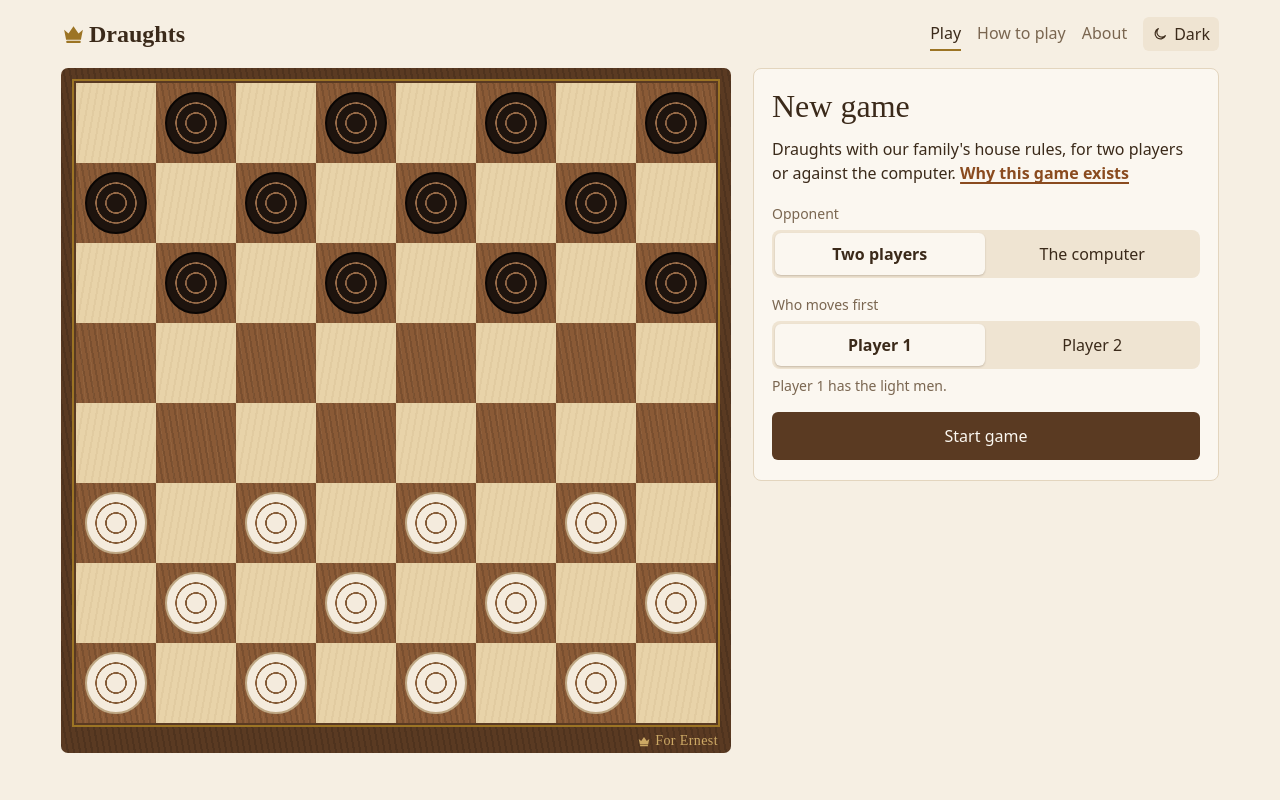
Show tips › shows tips and targets together, looking different (spec section 6.6, item 12)
Click the button "Start game" at (986, 436), box [772,412,1200,460]
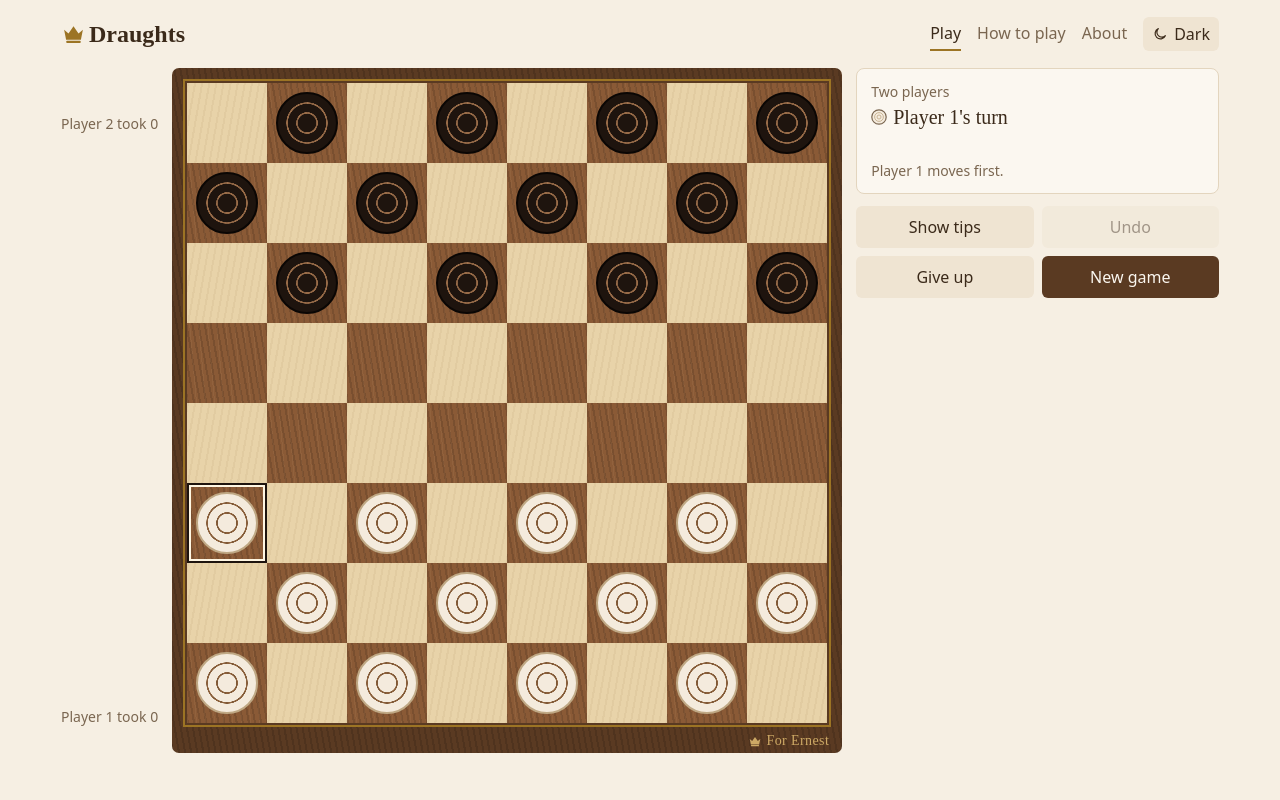
Click the button "Show tips" at (945, 227), box [856,206,1034,248]
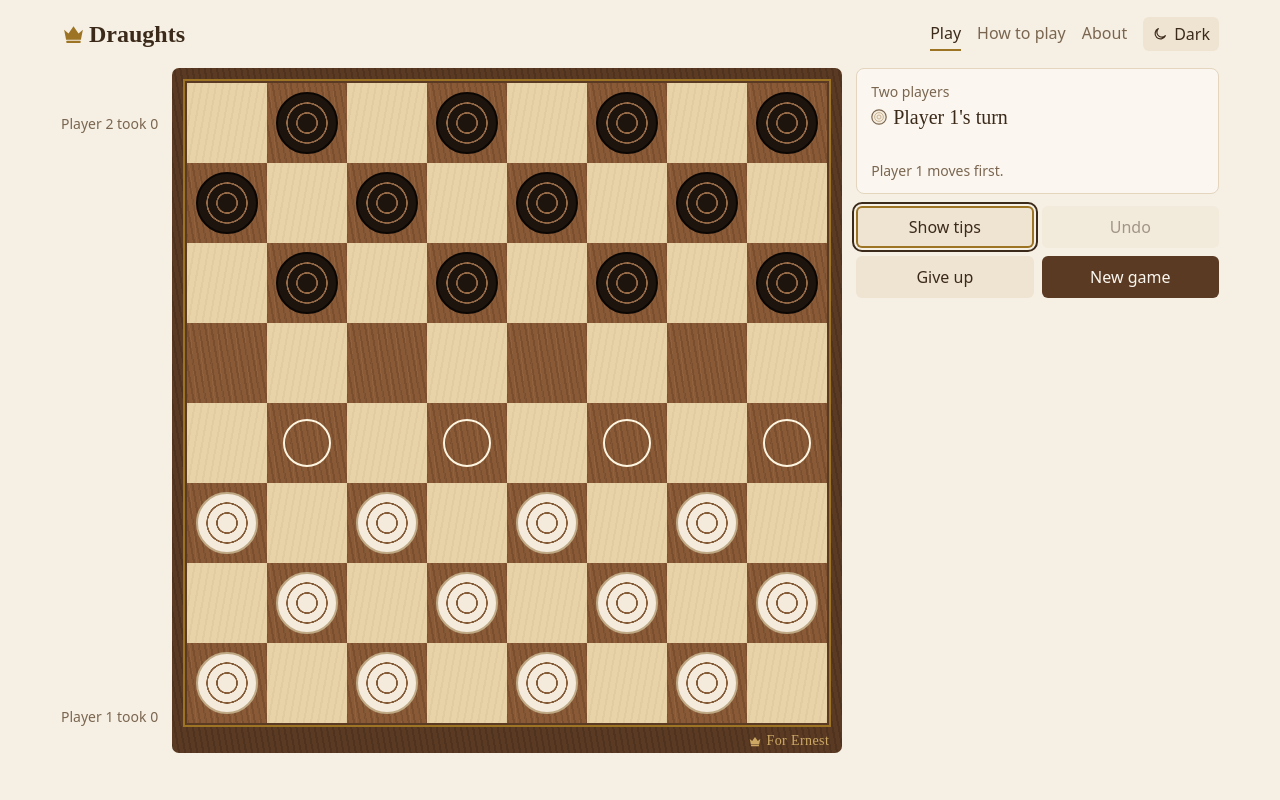
Click the cell named "Row 6, column 3, player 1's man" at (387, 523), box [347,483,427,563]
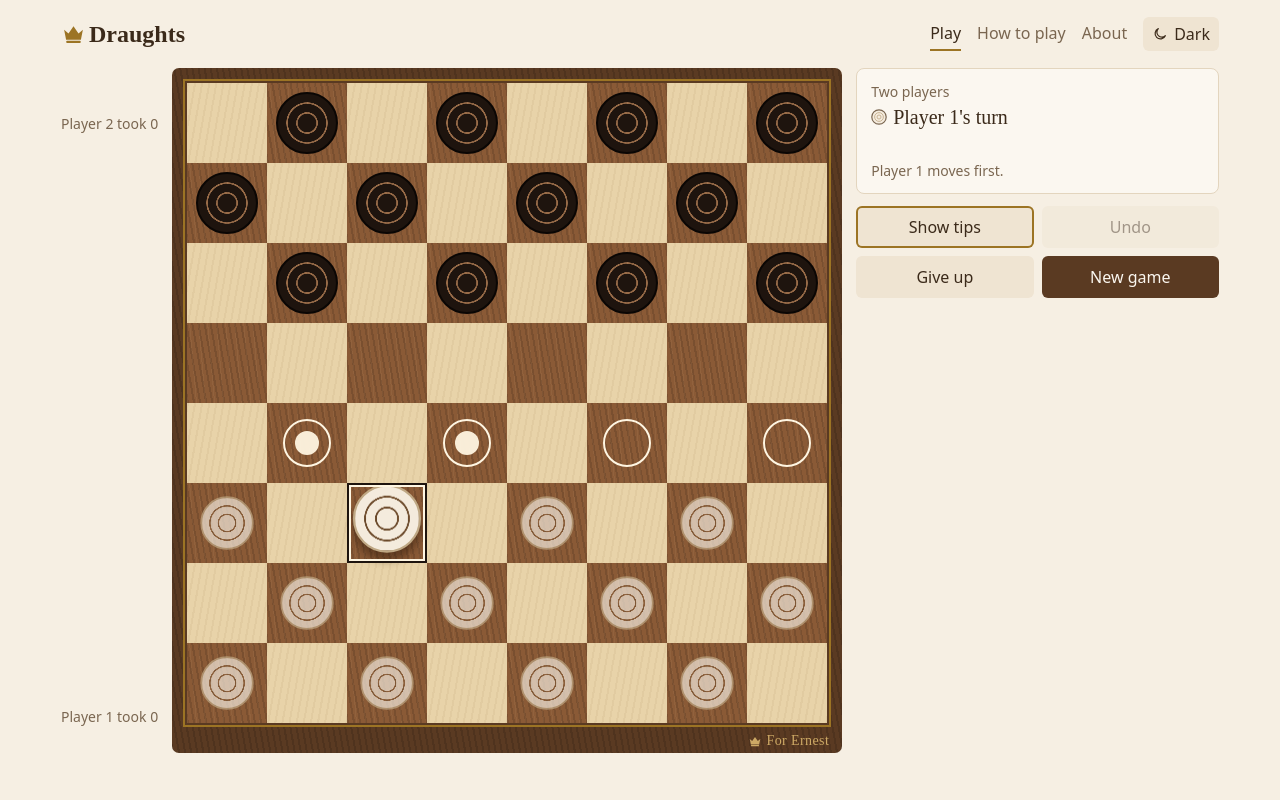
Expected: the 2nd element with test id "tip" is shown, [443,419,491,467]
Expected: the 2nd element with test id "target" is shown, [455,431,479,455]
